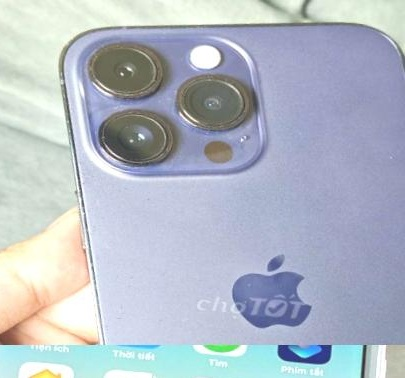scratch: (78, 90, 183, 190), (64, 33, 173, 110), (164, 67, 262, 152), (221, 270, 261, 331), (141, 191, 158, 206)
